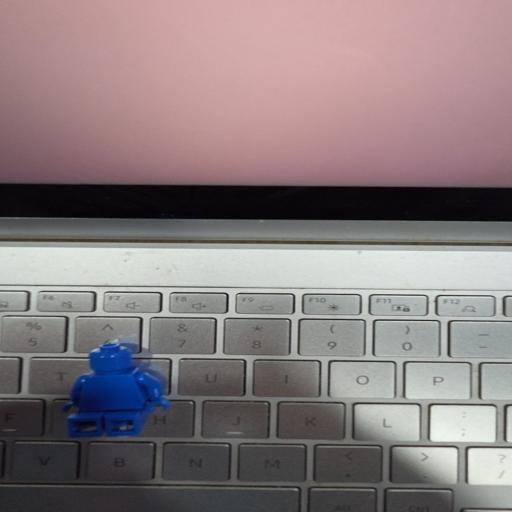Blue: (63, 342, 168, 437)
